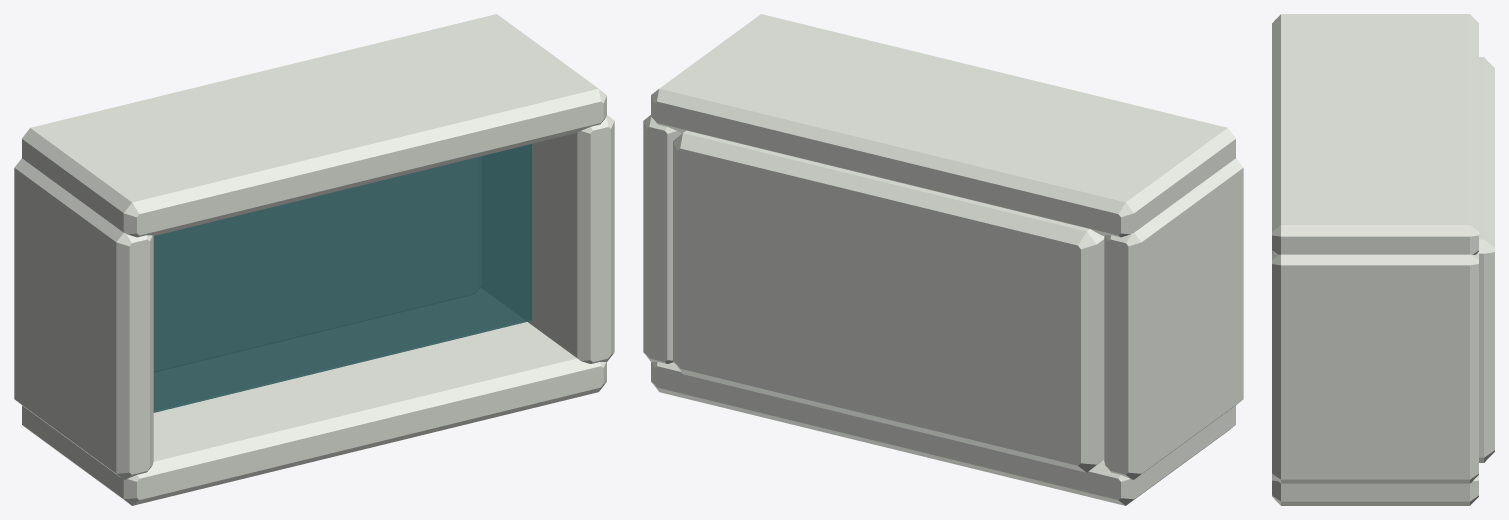
File: master_bath_bathtub.obj
3 views of the same model, side by side, from view 1: azimuth 30°, elevation 25°; view 2: azimuth 150°, elevation 25°; view 3: azimuth 270°, elevation 25° (orthographic). The views are drawn at different scales.
Parts seen in each view (by area): view 1: master_bath_bathtub_ceramic, master_bath_bathtub_water; view 2: master_bath_bathtub_ceramic; view 3: master_bath_bathtub_ceramic.
Boxes of the visible parts, x1=… form: master_bath_bathtub_ceramic: x1=14, y1=14, x2=614, y2=505; master_bath_bathtub_water: x1=153, y1=144, x2=531, y2=412; master_bath_bathtub_ceramic: x1=643, y1=14, x2=1243, y2=505; master_bath_bathtub_ceramic: x1=1272, y1=14, x2=1494, y2=505.
Bounding box in the file's own units: 67 × 39 × 28.
2 materials, 2 textured.
